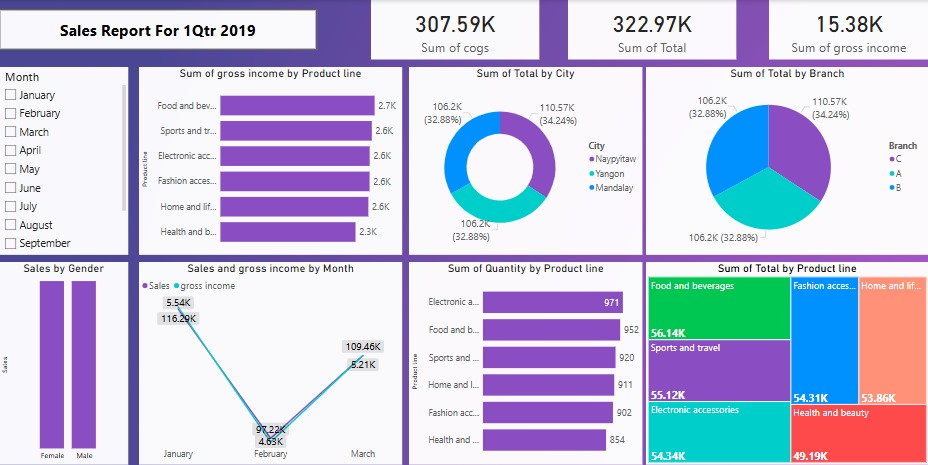

The page's visual inventory and layout, read from the dashboard file:
{"tool":"powerbi","page":{"name":"Page 1","canvas":[2000,1000],"ordinal":0},"visuals":[{"type":"card","fields":{"Values":["Sum(supermarket_sales.Total)"]},"box":[1224,0,362,128],"z":0},{"type":"card","fields":{"Values":["Sum(supermarket_sales.gross income)"]},"box":[1656,0,344,128],"z":1000},{"type":"card","title":"COGS","fields":{"Values":["Sum(supermarket_sales.cogs)"]},"box":[800,0,362,128],"z":2000},{"type":"pieChart","fields":{"Y":["Sum(supermarket_sales.Total)"],"Category":["supermarket_sales.Branch"]},"box":[1392,144,608,404],"z":3000},{"type":"donutChart","fields":{"Y":["Sum(supermarket_sales.Total)"],"Category":["supermarket_sales.City","supermarket_sales.Branch"]},"box":[882,144,502,404],"z":4000},{"type":"treemap","fields":{"Values":["Sum(supermarket_sales.Total)"],"Group":["supermarket_sales.Product line"]},"box":[1392,564,608,436],"z":5000},{"type":"hundredPercentStackedColumnChart","fields":{"Category":["supermarket_sales.Gender"],"Y":["Sum(supermarket_sales.Total)"]},"box":[0,564,278,436],"z":6000},{"type":"slicer","fields":{"Values":["supermarket_sales.Date.Variation.Date Hierarchy.Month"]},"box":[0,144,278,404],"z":7000},{"type":"lineChart","fields":{"Category":["supermarket_sales.Date.Variation.Date Hierarchy.Month"],"Y":["Sum(supermarket_sales.Total)"],"Y2":["Sum(supermarket_sales.gross income)"]},"box":[302,564,566,436],"z":8000},{"type":"clusteredBarChart","fields":{"Category":["supermarket_sales.Product line"],"Y":["Sum(supermarket_sales.Quantity)"]},"box":[882,564,502,436],"z":9000},{"type":"clusteredBarChart","fields":{"Category":["supermarket_sales.Product line"],"Y":["Sum(supermarket_sales.gross income)"]},"box":[302,144,566,404],"z":10000},{"type":"actionButton","box":[0,20,684,86],"z":11000}]}

Visuals, with their boxes in screenshot pixels (x1, y1, x2, y2), scaled from the page's 2000x1000 canvas onto the 928x465 screenshot:
card - Sum(supermarket_sales.Total): <bbox>568, 0, 736, 60</bbox>
card - Sum(supermarket_sales.gross income): <bbox>768, 0, 927, 60</bbox>
"COGS" card: <bbox>371, 0, 539, 60</bbox>
pieChart - Sum(supermarket_sales.Total) x supermarket_sales.Branch: <bbox>646, 67, 927, 255</bbox>
donutChart - Sum(supermarket_sales.Total) x supermarket_sales.City: <bbox>409, 67, 642, 255</bbox>
treemap - Sum(supermarket_sales.Total) x supermarket_sales.Product line: <bbox>646, 262, 927, 464</bbox>
hundredPercentStackedColumnChart - supermarket_sales.Gender x Sum(supermarket_sales.Total): <bbox>0, 262, 129, 464</bbox>
slicer - supermarket_sales.Date.Variation.Date Hierarchy.Month: <bbox>0, 67, 129, 255</bbox>
lineChart - supermarket_sales.Date.Variation.Date Hierarchy.Month x Sum(supermarket_sales.Total): <bbox>140, 262, 403, 464</bbox>
clusteredBarChart - supermarket_sales.Product line x Sum(supermarket_sales.Quantity): <bbox>409, 262, 642, 464</bbox>
clusteredBarChart - supermarket_sales.Product line x Sum(supermarket_sales.gross income): <bbox>140, 67, 403, 255</bbox>
actionButton: <bbox>0, 9, 317, 49</bbox>
